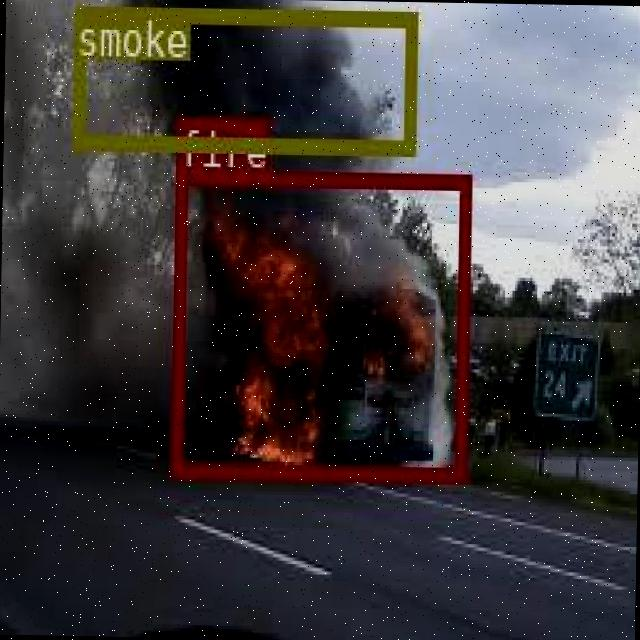fire: (169, 168, 469, 480)
smoke: (71, 2, 414, 153)
